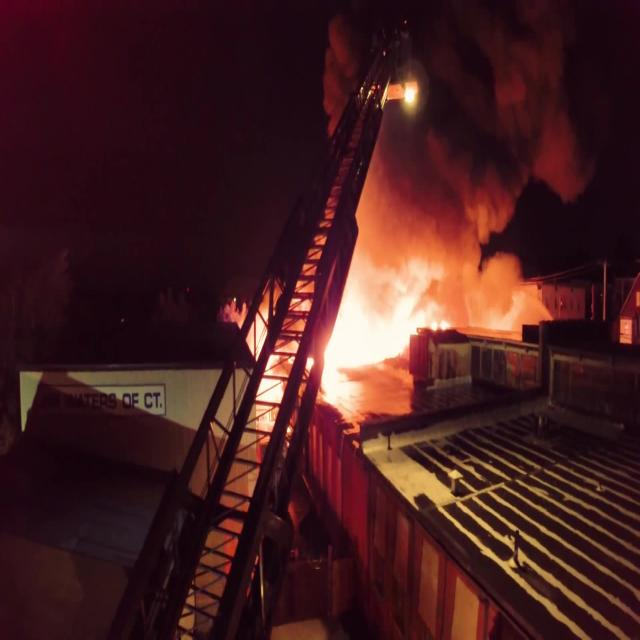Fire: (236, 271, 447, 372)
Smoke: (327, 10, 618, 216)
